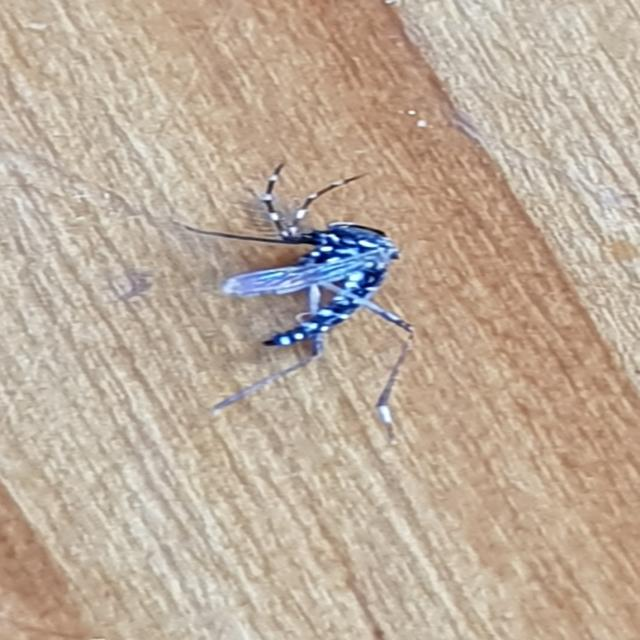albopictus: (162, 153, 437, 372)
